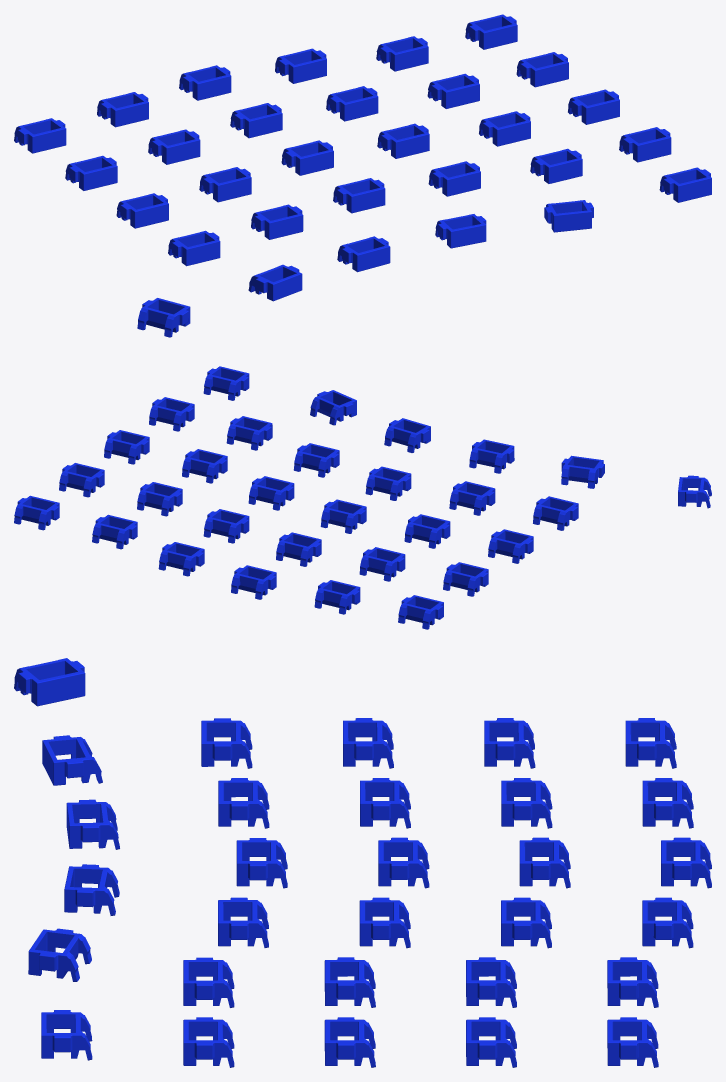
File: stemClick.glb
The picture shows the model from 3 angles, top to bottom: view 1: azimuth 30°, elevation 25°; view 2: azimuth 150°, elevation 25°; view 3: azimuth 270°, elevation 25°; orthographic projection. The views are drawn at different scales.
Parts seen in each view (by area): view 1: Body1.175, Body1.127, Body1.150, Body1.006, Body1.120, Body1.151, Body1.079, Body1.121, Body1.067, Body1.019, Body1.103, Body1.042 (+18 smaller); view 2: Body1.103, Body1.012, Body1.030, Body1.066, Body1.162, Body1.078, Body1.127, Body1.019, Body1.042, Body1.043, Body1.055, Body1.067 (+18 smaller); view 3: Body1.175, Body1.163, Body1.162, Body1.150, Body1.066, Body1.127, Body1.030, Body1.019, Body1.042, Body1.151, Body1.006, Body1.121 (+18 smaller).
Boxes of the visible parts, bbox=[...] form: Body1.175: bbox=[137, 298, 190, 337]; Body1.127: bbox=[14, 118, 66, 153]; Body1.150: bbox=[248, 264, 302, 301]; Body1.006: bbox=[333, 178, 385, 213]; Body1.120: bbox=[251, 204, 303, 239]; Body1.151: bbox=[337, 236, 390, 272]; Body1.079: bbox=[179, 65, 231, 100]; Body1.121: bbox=[168, 230, 220, 266]; Body1.067: bbox=[326, 86, 378, 121]; Body1.019: bbox=[619, 127, 671, 162]; Body1.103: bbox=[148, 129, 200, 164]; Body1.042: bbox=[465, 14, 517, 49]; Body1.103: bbox=[359, 547, 405, 581]; Body1.012: bbox=[293, 443, 339, 477]; Body1.030: bbox=[104, 430, 149, 464]; Body1.066: bbox=[248, 476, 294, 510]; Body1.162: bbox=[384, 418, 430, 452]; Body1.078: bbox=[158, 542, 204, 576]; Body1.127: bbox=[398, 595, 443, 629]; Body1.019: bbox=[149, 397, 194, 431]; Body1.042: bbox=[14, 495, 59, 530]; Body1.043: bbox=[92, 514, 137, 549]; Body1.055: bbox=[182, 449, 227, 483]; Body1.067: bbox=[203, 509, 249, 543]; Body1.175: bbox=[14, 658, 85, 706]; Body1.163: bbox=[28, 928, 91, 981]; Body1.162: bbox=[64, 864, 119, 915]; Body1.150: bbox=[42, 735, 102, 785]; Body1.066: bbox=[359, 897, 410, 948]; Body1.127: bbox=[625, 718, 676, 768]; Body1.030: bbox=[324, 1017, 375, 1067]; Body1.019: bbox=[183, 1017, 234, 1067]; Body1.042: bbox=[607, 1017, 658, 1067]; Body1.151: bbox=[66, 799, 119, 849]; Body1.006: bbox=[236, 838, 287, 888]; Body1.121: bbox=[201, 718, 252, 768].
Size of the model in its own units: 117 by 3.61 by 87.94.
